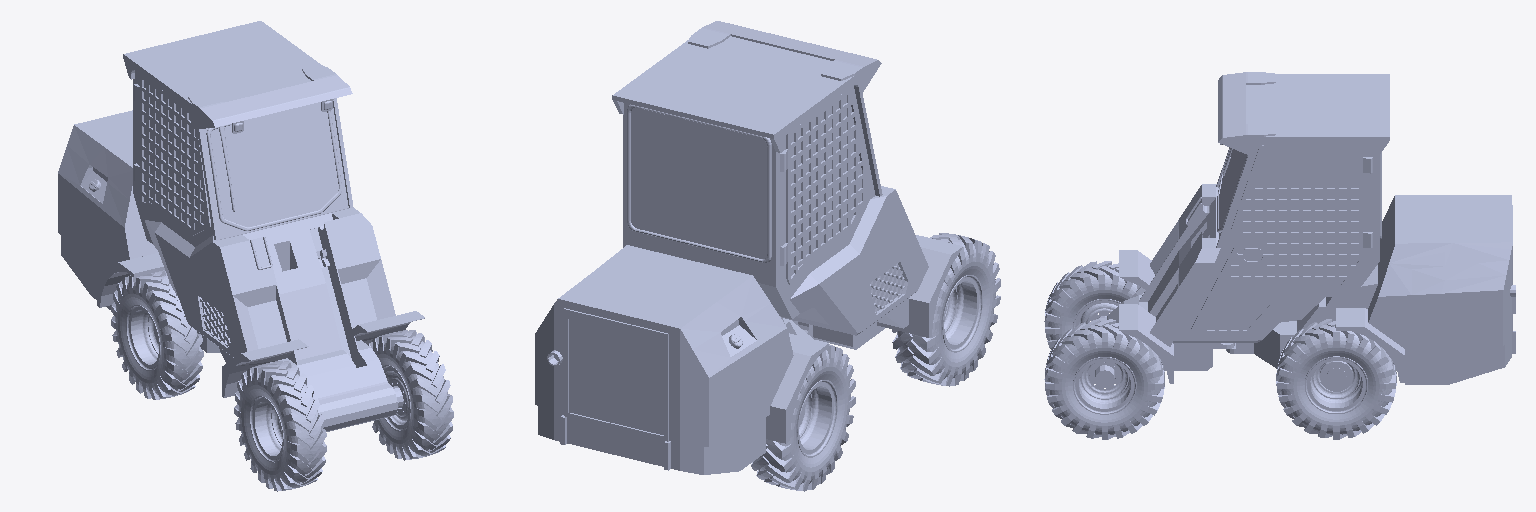
The robot description file, URDF, robot "mitrix_tractor":
<?xml version="1.0" encoding="utf-8"?>
<!-- This URDF was automatically created by SolidWorks to URDF Exporter! Originally created by Stephen Brawner (brawner@gmail.com) 
     Commit Version: 1.6.0-4-g7f85cfe  Build Version: 1.6.7995.38578
     For more information, please see http://wiki.ros.org/sw_urdf_exporter -->
<robot
  name="mitrix_tractor">
  <!-- base_link -->
  <link
    name="base_link">
    <inertial>
      <origin
        xyz="-0.00106886386920223 1.15183202602706 1.39325704365838"
        rpy="0 0 0" />
      <mass
        value="1087.55484145601" />
      <inertia
        ixx="489.228096180784"
        ixy="-0.479324718827124"
        ixz="-2.00027402850368"
        iyy="363.764154253284"
        iyz="-161.474153960171"
        izz="309.306200783303" />
    </inertial>
    <visual>
      <origin
        xyz="0 0 0"
        rpy="0 0 0" />
      <geometry>
        <mesh
          filename="package://mitrix_tractor/meshes/base_link.STL" />
      </geometry>
      <material
        name="">
        <color
          rgba="0.792156862745098 0.819607843137255 0.933333333333333 1" />
      </material>
    </visual>
    <collision>
      <origin
        xyz="0 0 0"
        rpy="0 0 0" />
      <geometry>
        <mesh
          filename="package://mitrix_tractor/meshes/base_link.STL" />
      </geometry>
    </collision>
  
  </link>
  <!-- Front_Link -->
  <link
    name="Front_Link">
    <inertial>
      <origin
        xyz="-0.00106886386920221 -0.00126572552513649 -0.00212424444091286"
        rpy="0 0 0" />
      <mass
        value="1087.55484145601" />
      <inertia
        ixx="489.228096180784"
        ixy="-2.00027402850368"
        ixz="0.479324718827125"
        iyy="309.306200783303"
        iyz="161.474153960171"
        izz="363.764154253284" />
    </inertial>
    <visual>
      <origin
        xyz="0 0 0"
        rpy="0 0 0" />
      <geometry>
        <mesh
          filename="package://mitrix_tractor/meshes/Front_Link.STL" />
      </geometry>
      <material
        name="">
        <color
          rgba="0.792156862745098 0.819607843137255 0.933333333333333 1" />
      </material>
    </visual>
    <collision>
      <origin
        xyz="0 0 0"
        rpy="0 0 0" />
      <geometry>
        <mesh
          filename="package://mitrix_tractor/meshes/Front_Link.STL" />
      </geometry>
    </collision>
  </link>
  <!-- Front -->
  <joint
    name="Front"
    type="fixed">
    <origin
      xyz="0 1.14970778158614 1.39452276918352"
      rpy="1.5707963267949 0 0" />
    <parent
      link="base_link" />
    <child
      link="Front_Link" />
    <axis
      xyz="0 0 0" />
  </joint>
  <!-- Front_Axel_Link -->
  <link
    name="Front_Axel_Link">
    <inertial>
      <origin
        xyz="-4.36969277349066E-06 4.2643744091464E-08 -4.46162003428859E-07"
        rpy="0 0 0" />
      <mass
        value="82.3921622749131" />
      <inertia
        ixx="9.58914281082636"
        ixy="-6.41504227471085E-07"
        ixz="-3.9156564981539E-06"
        iyy="5.32521262628635"
        iyz="5.7111359138157E-05"
        izz="5.32519978332462" />
    </inertial>
    <visual>
      <origin
        xyz="0 0 0"
        rpy="0 0 0" />
      <geometry>
        <mesh
          filename="package://mitrix_tractor/meshes/Front_Axel_Link.STL" />
      </geometry>
      <material
        name="">
        <color
          rgba="0.792156862745098 0.819607843137255 0.933333333333333 1" />
      </material>
    </visual>
    <collision>
      <origin
        xyz="0 0 0"
        rpy="0 0 0" />
      <geometry>
        <mesh
          filename="package://mitrix_tractor/meshes/Front_Axel_Link.STL" />
      </geometry>
    </collision>
  </link>
  <!-- Front_Axel -->
  <joint
    name="Front_Axel"
    type="continuous">
    <origin
      xyz="0 -0.978538244813555 1.14970778158614"
      rpy="0 0 0" />
    <parent
      link="Front_Link" />
    <child
      link="Front_Axel_Link" />
    <axis
      xyz="1 0 0" />
  </joint>
  <!-- Tail_Link -->
  <link
    name="Tail_Link">
    <inertial>
      <origin
        xyz="-0.000327038141281997 0.543854990765954 -1.14252556702687"
        rpy="0 0 0" />
      <mass
        value="712.268472572154" />
      <inertia
        ixx="175.337542160714"
        ixy="0.141308523900736"
        ixz="-0.0958623319072475"
        iyy="179.552494700682"
        iyz="30.8542165405477"
        izz="111.506544664362" />
    </inertial>
    <visual>
      <origin
        xyz="0 0 0"
        rpy="0 0 0" />
      <geometry>
        <mesh
          filename="package://mitrix_tractor/meshes/Tail_Link.STL" />
      </geometry>
      <material
        name="">
        <color
          rgba="0.792156862745098 0.819607843137255 0.933333333333333 1" />
      </material>
    </visual>
    <collision>
      <origin
        xyz="0 0 0"
        rpy="0 0 0" />
      <geometry>
        <mesh
          filename="package://mitrix_tractor/meshes/Tail_Link.STL" />
      </geometry>
    </collision>
  </link>
  <!-- Tail -->
  <joint
    name="Tail"
    type="revolute">
    <origin
      xyz="0.00457389022121065 1.01753781980835 0.305974036793424"
      rpy="1.5707963267949 0 0" />
    <parent
      link="base_link" />
    <child
      link="Tail_Link" />
    <axis
      xyz="0 1 0" />
    <limit
      lower="-0.5"
      upper="0.5"
      effort="0"
      velocity="0" />
  </joint>
  <!-- Tail_Axel_Link -->
  <link
    name="Tail_Axel_Link">
    <inertial>
      <origin
        xyz="-0.000330781791365959 -1.66668638551526E-06 2.00350268309002E-06"
        rpy="0 0 0" />
      <mass
        value="82.3920304456165" />
      <inertia
        ixx="9.58914160993293"
        ixy="1.28677641446957E-06"
        ixz="5.26971000195874E-07"
        iyy="5.32520255262535"
        iyz="3.97200832849845E-07"
        izz="5.32520912757228" />
    </inertial>
    <visual>
      <origin
        xyz="0 0 0"
        rpy="0 0 0" />
      <geometry>
        <mesh
          filename="package://mitrix_tractor/meshes/Tail_Axel_Link.STL" />
      </geometry>
      <material
        name="">
        <color
          rgba="0.792156862745098 0.819607843137255 0.933333333333333 1" />
      </material>
    </visual>
    <collision>
      <origin
        xyz="0 0 0"
        rpy="0 0 0" />
      <geometry>
        <mesh
          filename="package://mitrix_tractor/meshes/Tail_Axel_Link.STL" />
      </geometry>
    </collision>
  </link>
  <!-- Tail_Axel -->
  <joint
    name="Tail_Axel"
    type="continuous">
    <origin
      xyz="0 0.11668 -0.579953773966366"
      rpy="0 0 0" />
    <parent
      link="Tail_Link" />
    <child
      link="Tail_Axel_Link" />
    <axis
      xyz="1 0 0" />
  </joint>
</robot>

--- Facts derived from the render (not from the file) ---
Views: 3 orthographic renders of the robot side by side, from view 1: azimuth 30°, elevation 25°; view 2: azimuth 150°, elevation 25°; view 3: azimuth 270°, elevation 25°.
Model mitrix_tractor with 5 links and 4 joints (1 revolute, 2 continuous, 1 fixed), rooted at base_link, posed all joints at 0.
Links seen in each view (by area): view 1: base_link, Front_Axel_Link, Tail_Link, Tail_Axel_Link; view 2: base_link, Tail_Link, Front_Axel_Link, Tail_Axel_Link; view 3: base_link, Tail_Link, Front_Axel_Link, Tail_Axel_Link.
Boxes of the visible links, left/top/right/bottom form: base_link: left=123, top=21, right=424, bottom=431; Front_Axel_Link: left=234, top=330, right=453, bottom=491; Tail_Link: left=58, top=110, right=220, bottom=352; Tail_Axel_Link: left=111, top=270, right=203, bottom=399; base_link: left=612, top=21, right=962, bottom=349; Tail_Link: left=535, top=245, right=828, bottom=474; Front_Axel_Link: left=892, top=233, right=1000, bottom=386; Tail_Axel_Link: left=751, top=344, right=855, bottom=491; base_link: left=1090, top=72, right=1389, bottom=387; Tail_Link: left=1226, top=195, right=1515, bottom=391; Front_Axel_Link: left=1044, top=261, right=1164, bottom=439; Tail_Axel_Link: left=1276, top=319, right=1396, bottom=439.
Size in the robot's own frame: 1.32 by 3.25 by 2.3 metres.
Meshes: 5 distinct files referenced, 5 mesh visuals loaded (5 binary STL).
